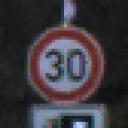speed_limit_30: (24, 24, 108, 106)
